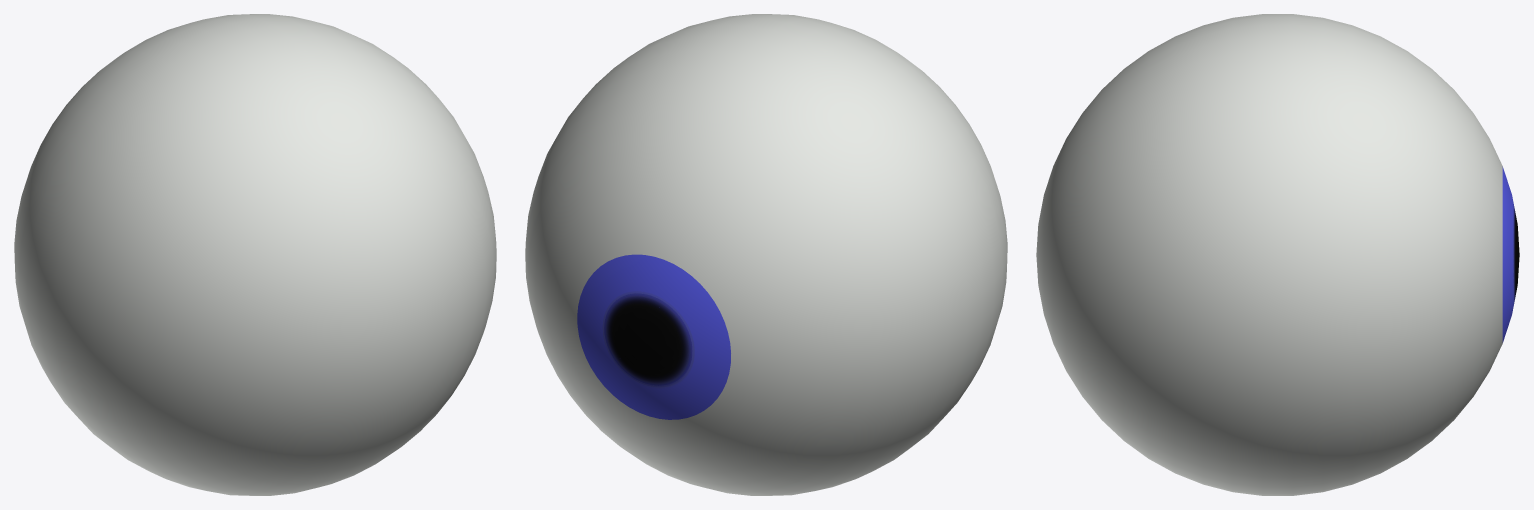
3 renders of one model, left to right at view 1: azimuth 30°, elevation 25°; view 2: azimuth 150°, elevation 25°; view 3: azimuth 270°, elevation 25°, orthographic.
Visible parts, largest first — view 1: eye; view 2: eye; view 3: eye.
Boxes of the visible parts, x1,y1,x2,y2 form: eye: (14, 14, 496, 495); eye: (525, 14, 1007, 495); eye: (1036, 14, 1519, 495).
Bounding box in the file's own units: 4.18 × 4.18 × 4.19.
Materials: 1 (1 with a texture image).
